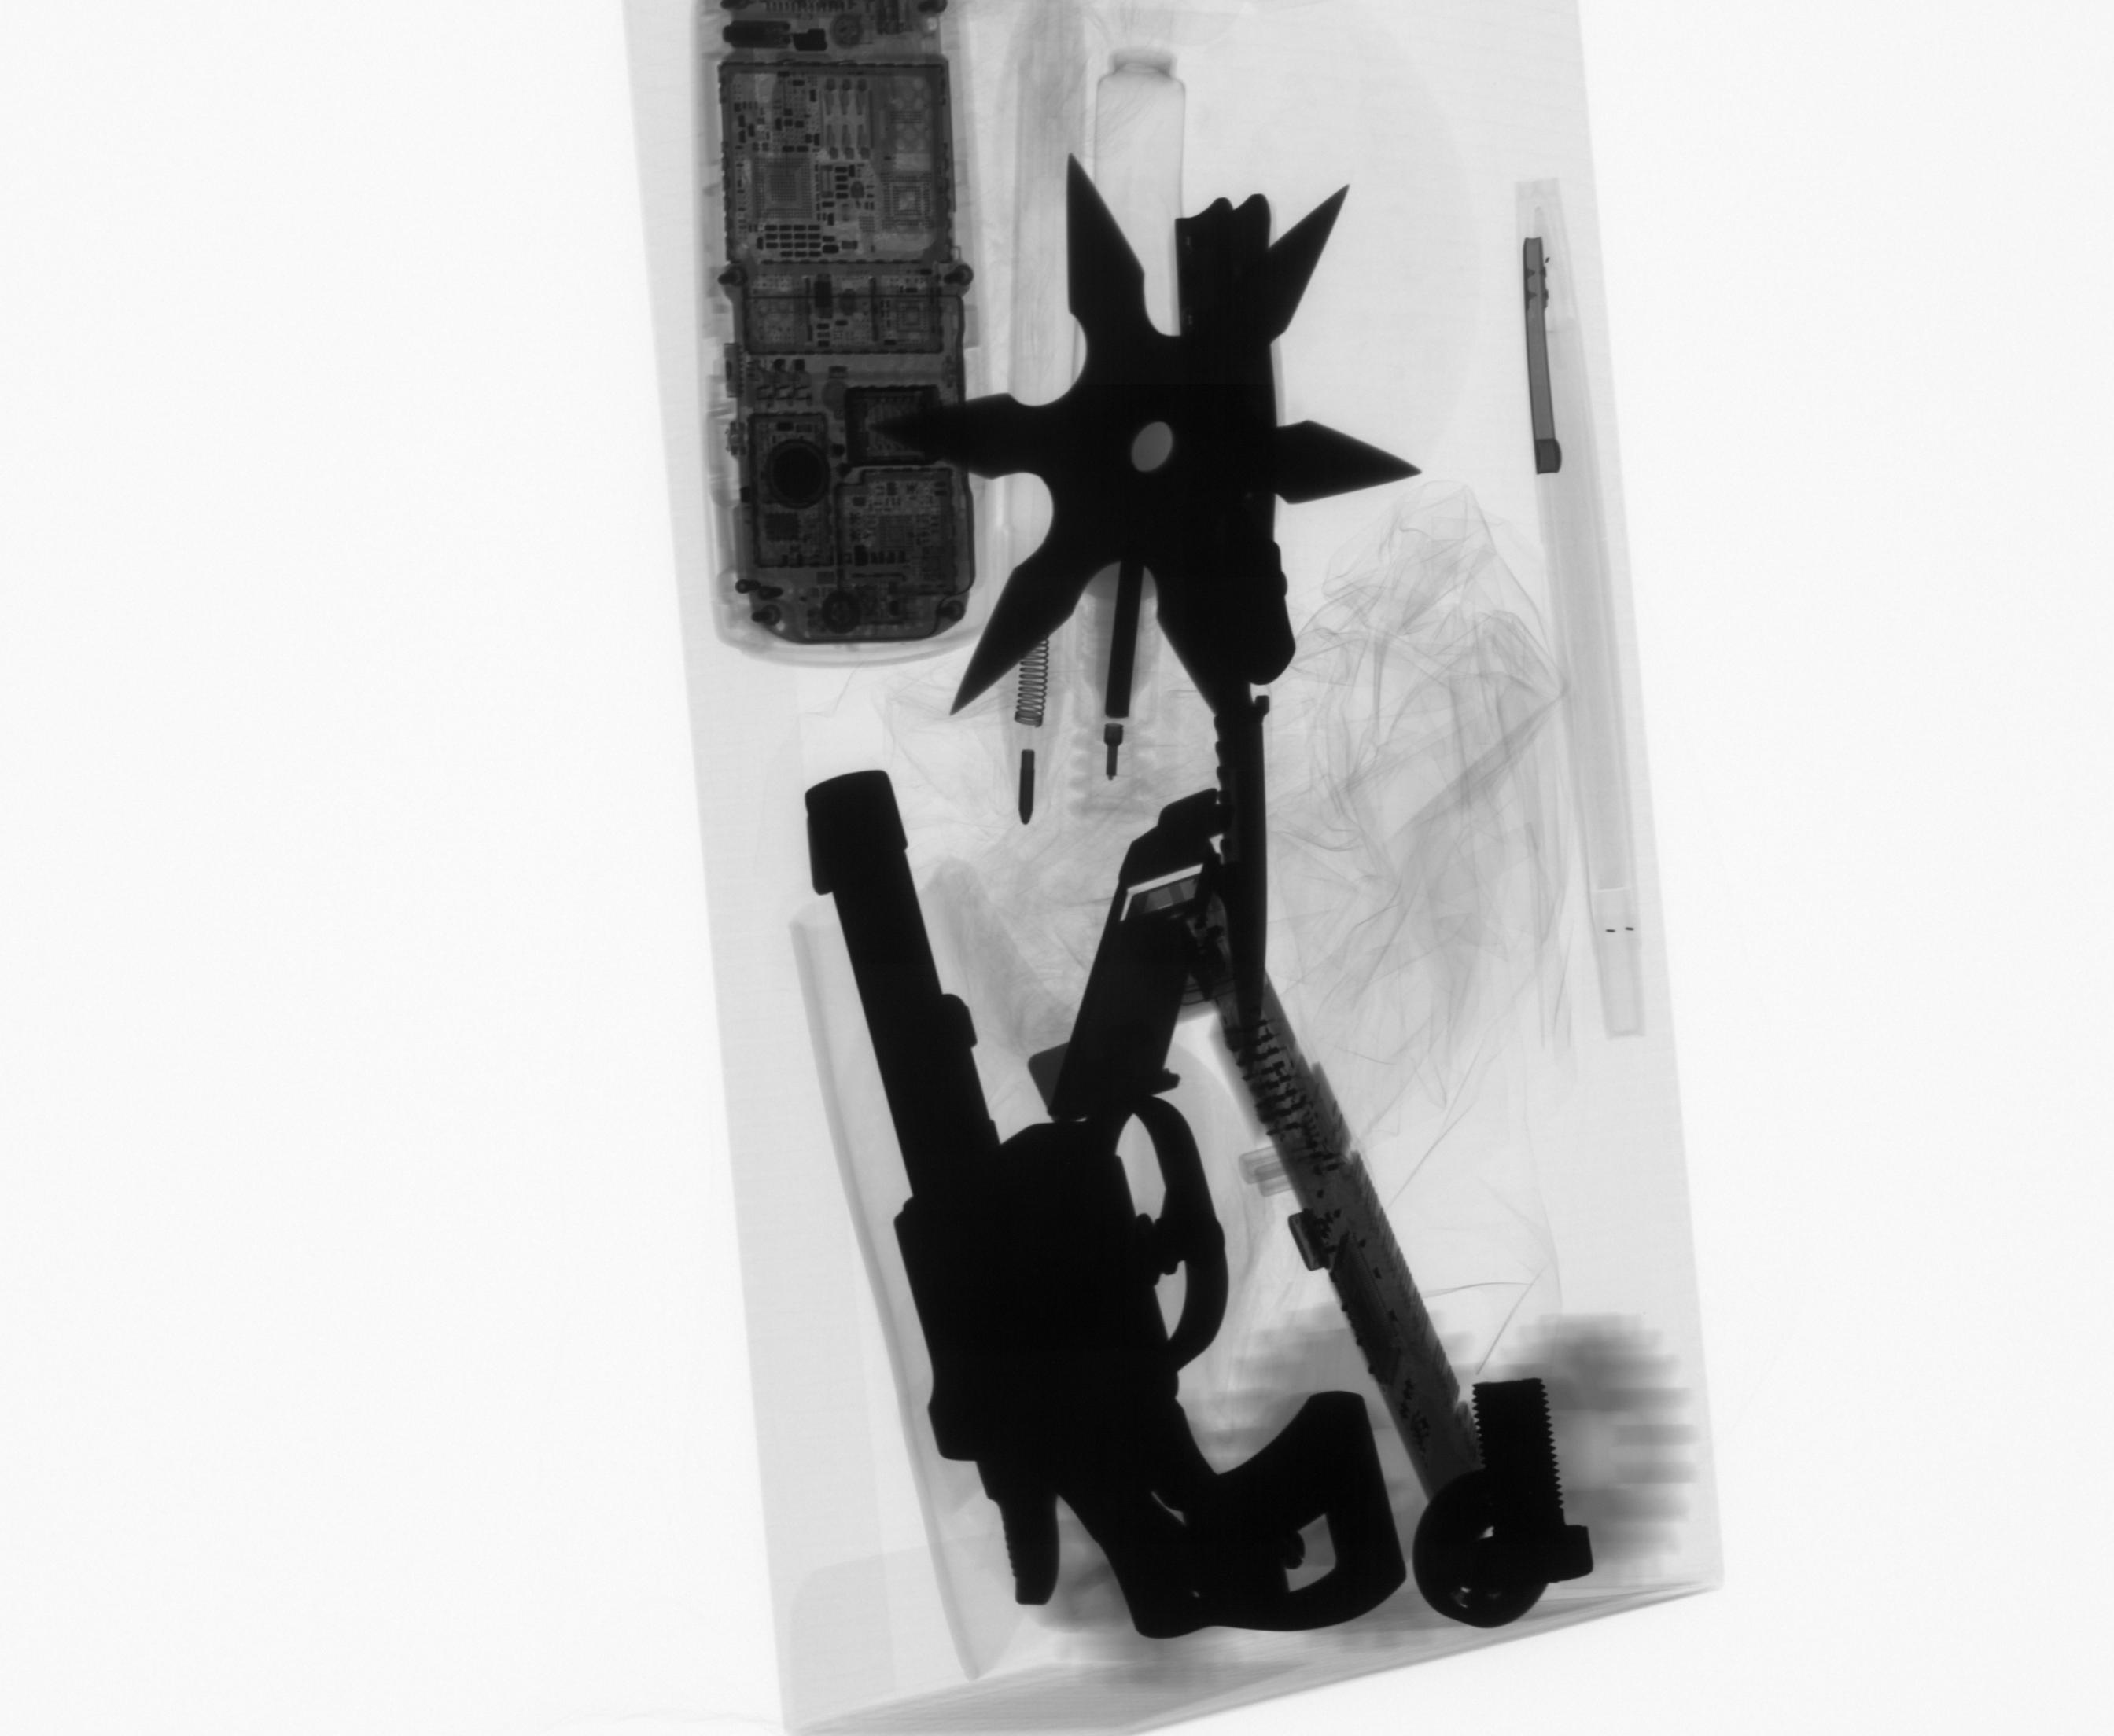Handgun: (759, 753, 1422, 1690)
Shuriken: (887, 151, 1408, 734)
